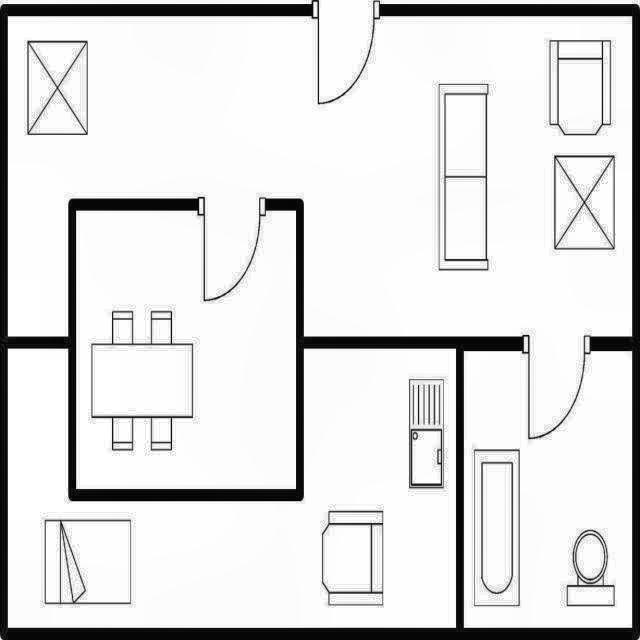room: (7, 16, 632, 337), (8, 349, 456, 627), (75, 210, 296, 490), (464, 351, 632, 628)
